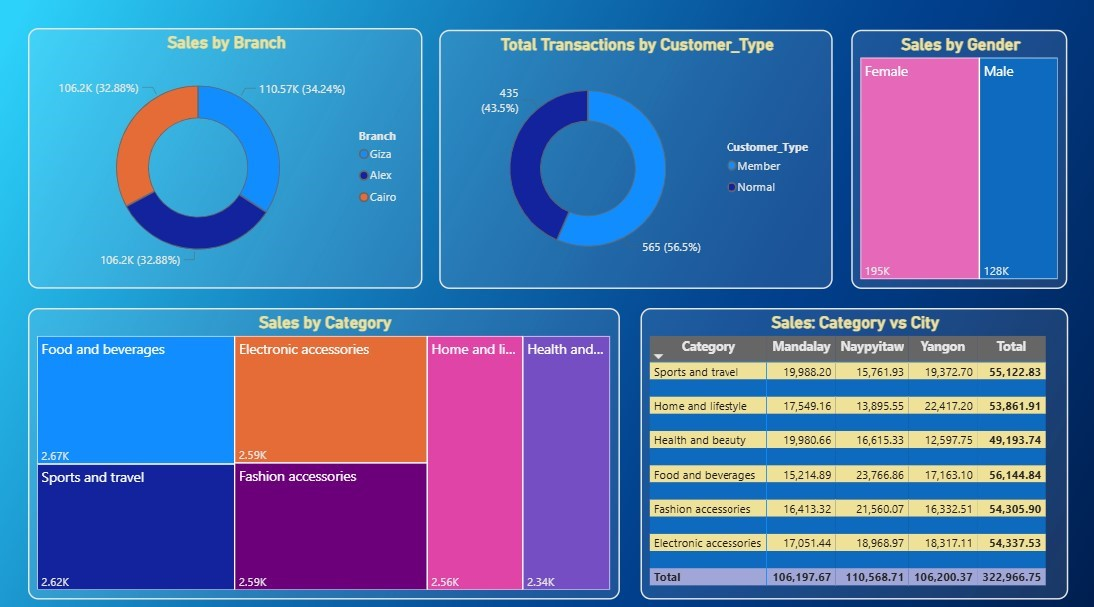

Layout of this report page (visuals, bound fields, positions):
{"tool":"powerbi","page":{"name":"Customer and Product Insights","canvas":[1280,720],"ordinal":2},"visuals":[{"type":"donutChart","title":"Sales by Branch","fields":{"Y":["Sum(SuperMarket Analysis.Total_Amount)"],"Category":["SuperMarket Analysis.Branch"]},"box":[32,32,460,304],"z":0},{"type":"treemap","title":"Sales by Category","fields":{"Group":["SuperMarket Analysis.Category"],"Values":["Sum(SuperMarket Analysis.Profit)"]},"box":[32,360,690,340],"z":1000},{"type":"donutChart","title":"Total Transactions by Customer_Type","fields":{"Category":["SuperMarket Analysis.Customer_Type"],"Y":["SuperMarket Analysis.Total_Transactions"]},"box":[512,34,460,302],"z":2000},{"type":"pivotTable","title":"Sales: Category vs City","fields":{"Values":["Sum(SuperMarket Analysis.Total_Amount)"],"Columns":["SuperMarket Analysis.City"],"Rows":["SuperMarket Analysis.Category"]},"box":[746,360,500,340],"z":3000},{"type":"treemap","title":"Sales by Gender","fields":{"Group":["SuperMarket Analysis.Gender"],"Values":["Sum(SuperMarket Analysis.Total_Amount)"]},"box":[994,34,252,302],"z":4000}]}

Visuals, with their boxes in screenshot pixels (x1, y1, x2, y2), scaled from the page's 1280x720 canvas onto the 1094x607 screenshot:
"Sales by Branch" donutChart: rect(27, 27, 421, 283)
"Sales by Category" treemap: rect(27, 304, 617, 590)
"Total Transactions by Customer_Type" donutChart: rect(438, 29, 831, 283)
"Sales: Category vs City" pivotTable: rect(638, 304, 1065, 590)
"Sales by Gender" treemap: rect(850, 29, 1065, 283)
